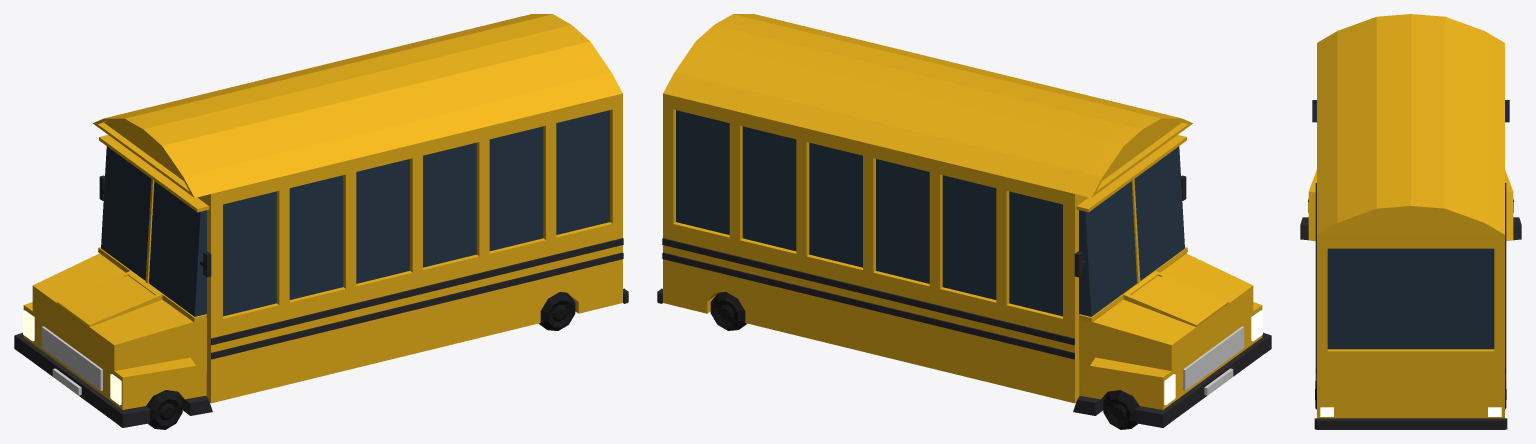
The model's file is schoolbus.glb.
The picture shows the model from 3 angles, left to right: view 1: azimuth 30°, elevation 25°; view 2: azimuth 150°, elevation 25°; view 3: azimuth 270°, elevation 25°; orthographic projection. The views are drawn at different scales.
Visible parts, largest first — view 1: SchoolBus, FrontWheels, BackWheels; view 2: SchoolBus, FrontWheels, BackWheels; view 3: SchoolBus.
Boxes of the visible parts, bbox=[...] form: SchoolBus: bbox=[14, 14, 628, 427]; FrontWheels: bbox=[146, 390, 182, 429]; BackWheels: bbox=[539, 292, 575, 330]; SchoolBus: bbox=[657, 14, 1271, 427]; FrontWheels: bbox=[1103, 390, 1139, 429]; BackWheels: bbox=[710, 292, 746, 330]; SchoolBus: bbox=[1300, 14, 1521, 429].
Size of the model in its own units: 4.61 by 2.19 by 1.88.
